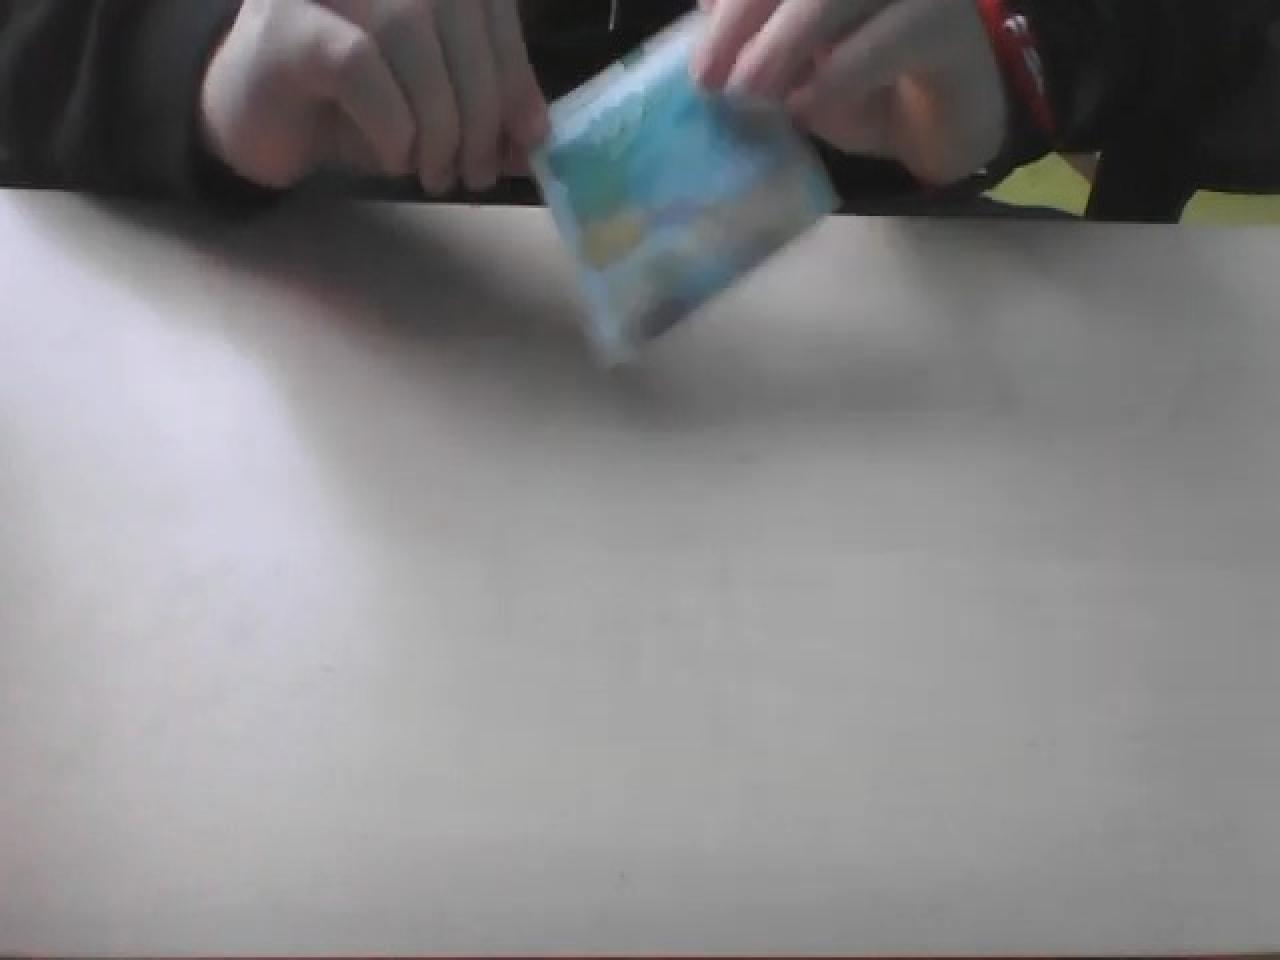100leva: (532, 24, 926, 365)
